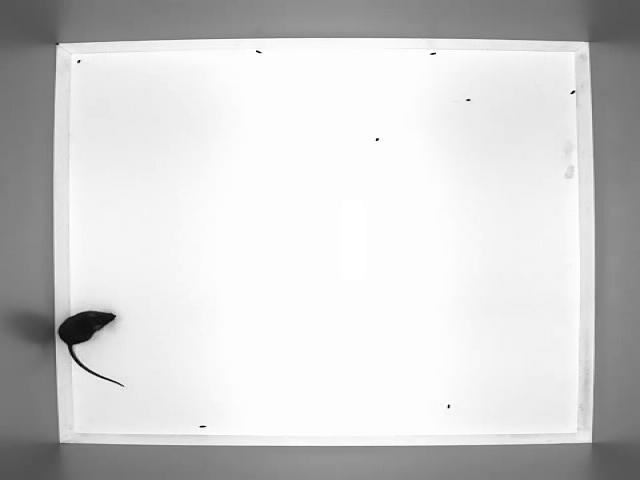Tikus: (52, 304, 144, 390)
